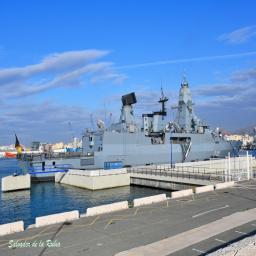Fragata: (16, 68, 243, 186)
